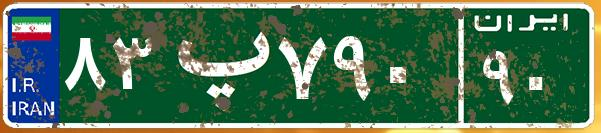0: (385, 28, 445, 110), (525, 38, 570, 115)
3: (110, 28, 158, 105)
7: (273, 28, 330, 110)
8: (57, 26, 110, 107)
9: (330, 28, 385, 110), (475, 38, 525, 113)
پ: (158, 15, 273, 115)
